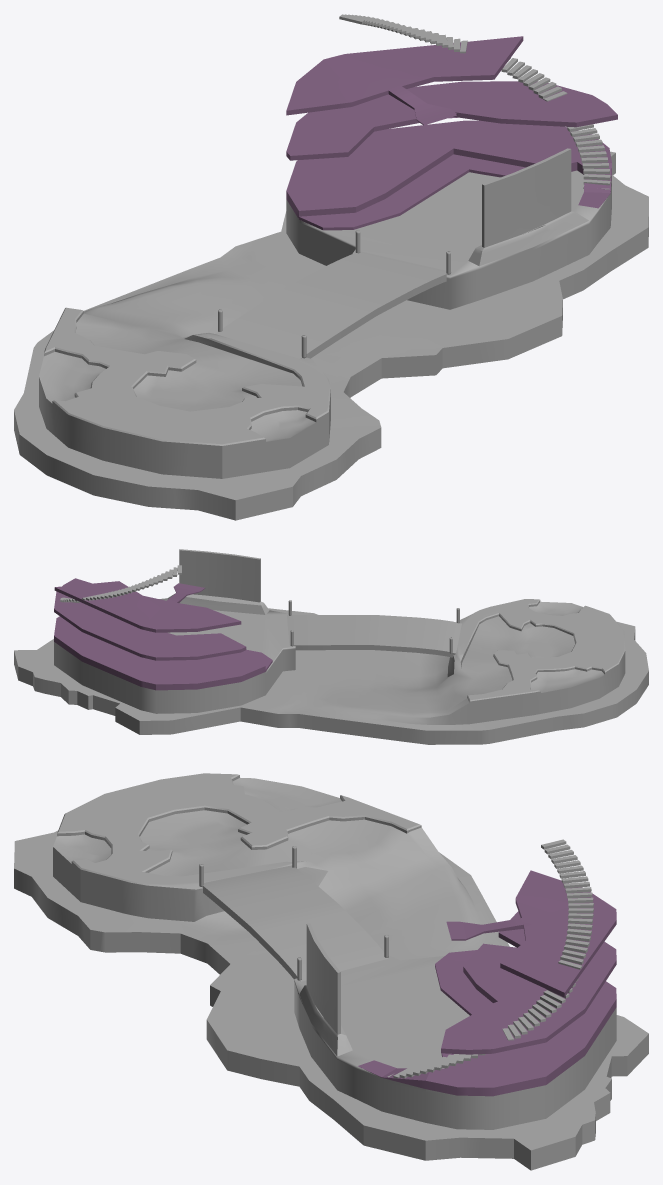
Rendered from Inside Mountain Blockout 2.fbx.
The picture shows the model from 3 angles, top to bottom: view 1: azimuth 30°, elevation 25°; view 2: azimuth 150°, elevation 25°; view 3: azimuth 270°, elevation 25°; orthographic projection. The views are drawn at different scales.
Visible parts, largest first — view 1: polySurface67, polySurface68, polySurface62, polySurface64, polySurface66, polySurface69, polySurface70, Stairs; view 2: polySurface67, polySurface62, polySurface68, polySurface64, polySurface66, polySurface69, polySurface70, Stairs; view 3: polySurface67, polySurface62, polySurface68, polySurface64, polySurface69, polySurface66, Stairs, polySurface70.
Part boxes in pixels (x1,y1,x2,y2): polySurface67: (14, 151, 648, 520); polySurface68: (286, 120, 611, 230); polySurface62: (286, 170, 611, 309); polySurface64: (215, 251, 452, 358); polySurface66: (286, 81, 617, 160); polySurface69: (286, 36, 523, 125); polySurface70: (468, 148, 588, 266); Stairs: (339, 14, 610, 189); polySurface67: (14, 599, 648, 744); polySurface62: (54, 598, 295, 713); polySurface68: (54, 616, 272, 690); polySurface64: (287, 615, 461, 657); polySurface66: (54, 578, 246, 660); polySurface69: (54, 581, 241, 632); polySurface70: (167, 549, 269, 614); Stairs: (60, 565, 181, 602); polySurface67: (14, 773, 648, 1170); polySurface62: (294, 955, 616, 1129); polySurface68: (358, 943, 616, 1096); polySurface64: (202, 865, 387, 981); polySurface69: (446, 870, 616, 997); polySurface66: (441, 911, 616, 1054); Stairs: (387, 839, 593, 1078); polySurface70: (299, 923, 352, 1056).
Bounding box in the file's own units: 67.46 × 18.2 × 50.93.
